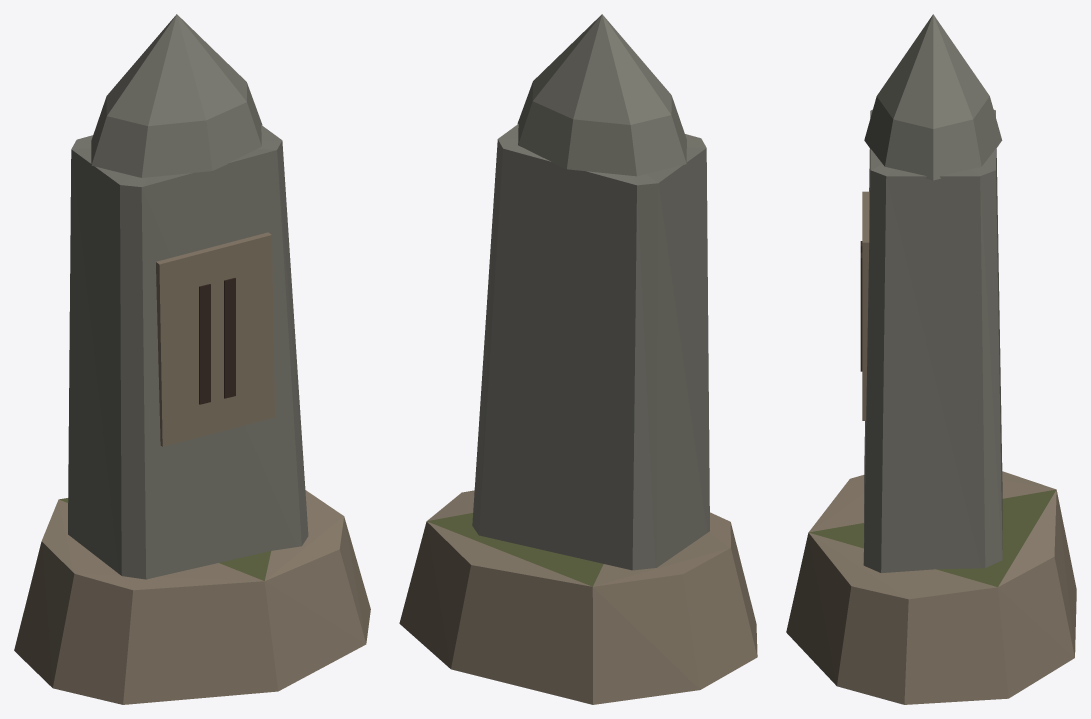
File: prop_milestone_a.glb
3 renders of one model, left to right at view 1: azimuth 30°, elevation 25°; view 2: azimuth 150°, elevation 25°; view 3: azimuth 270°, elevation 25°, orthographic. The views are drawn at different scales.
Visible parts, largest first — view 1: prop_milestone_a_mesh; view 2: prop_milestone_a_mesh; view 3: prop_milestone_a_mesh.
Part boxes in pixels (<box>): prop_milestone_a_mesh: <box>14,14,370,704</box>; prop_milestone_a_mesh: <box>399,14,757,704</box>; prop_milestone_a_mesh: <box>786,14,1076,704</box>.
Size of the model in its own units: 0.5115 by 0.96 by 0.4169.
